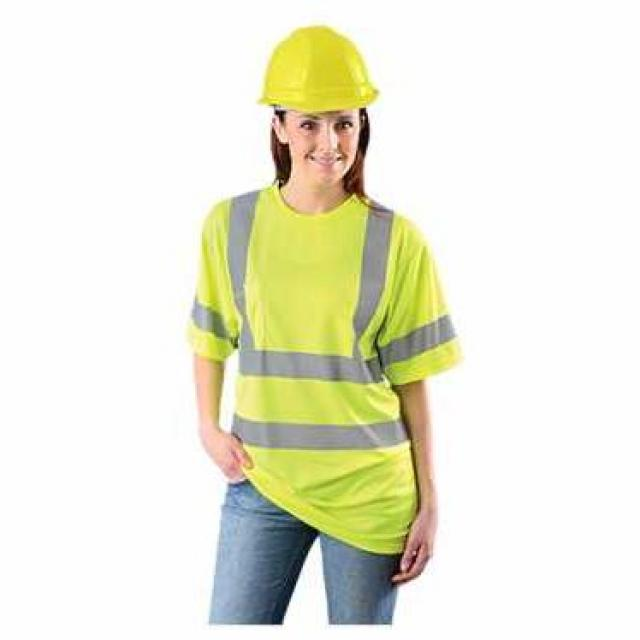Reflective-Jacket: (187, 192, 462, 501)
Safety-Helmet: (252, 20, 385, 121)
